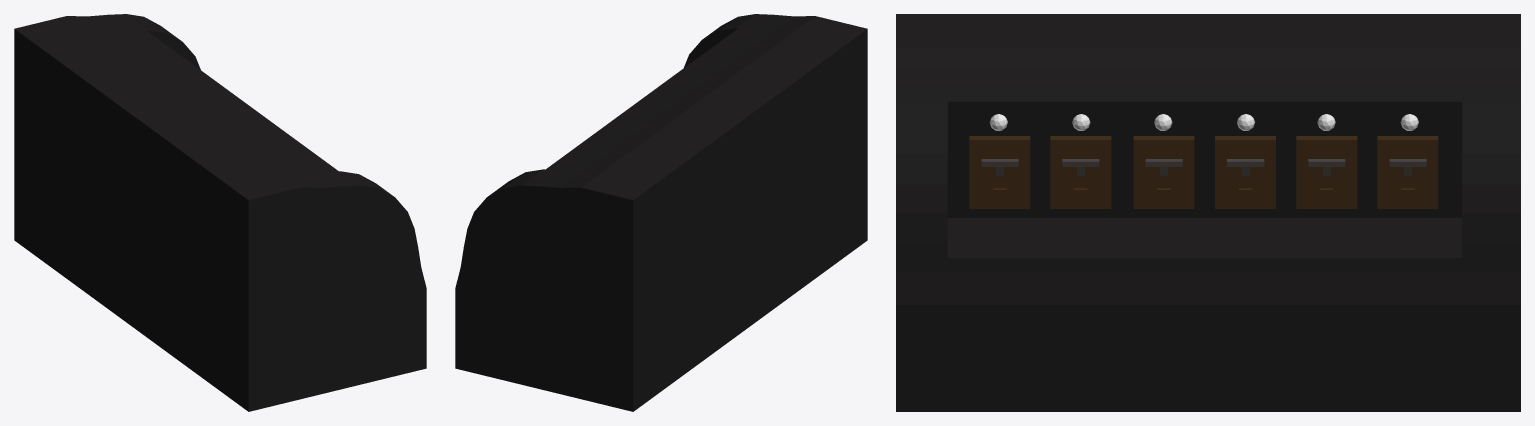
Rendered from Lever_puzzle1.fbx.
The picture shows the model from 3 angles, left to right: view 1: azimuth 30°, elevation 25°; view 2: azimuth 150°, elevation 25°; view 3: azimuth 270°, elevation 25°; orthographic projection. The views are drawn at different scales.
Parts seen in each view (by area): view 1: panel; view 2: panel; view 3: panel, leverBase.000, leverBase.001, leverBase.002, leverBase.004, leverBase.005, leverBase.003.
Boxes of the visible parts, x1,y1,x2,y2 form: panel: (14, 14, 426, 411); panel: (455, 14, 867, 411); panel: (896, 14, 1520, 411); leverBase.000: (969, 136, 1030, 208); leverBase.001: (1050, 136, 1111, 208); leverBase.002: (1133, 136, 1194, 208); leverBase.004: (1296, 136, 1357, 208); leverBase.005: (1377, 136, 1438, 208); leverBase.003: (1215, 136, 1275, 208).
Bounding box in the file's own units: 127 × 144 × 290.
